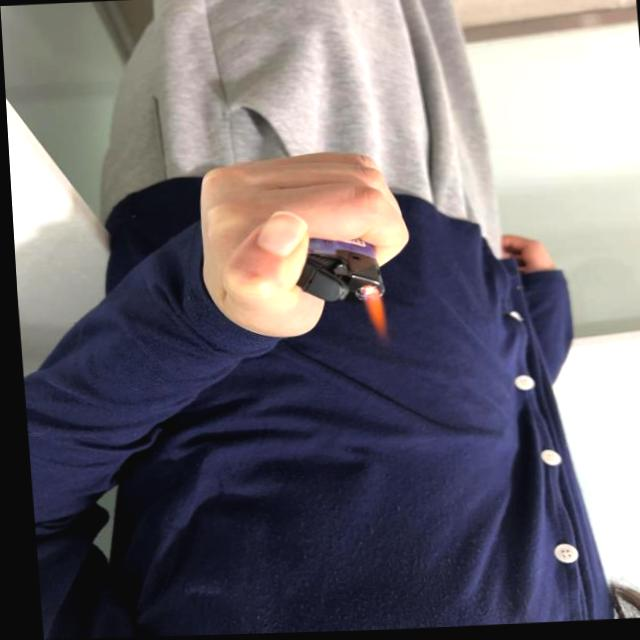helmet: (355, 292, 383, 347)
